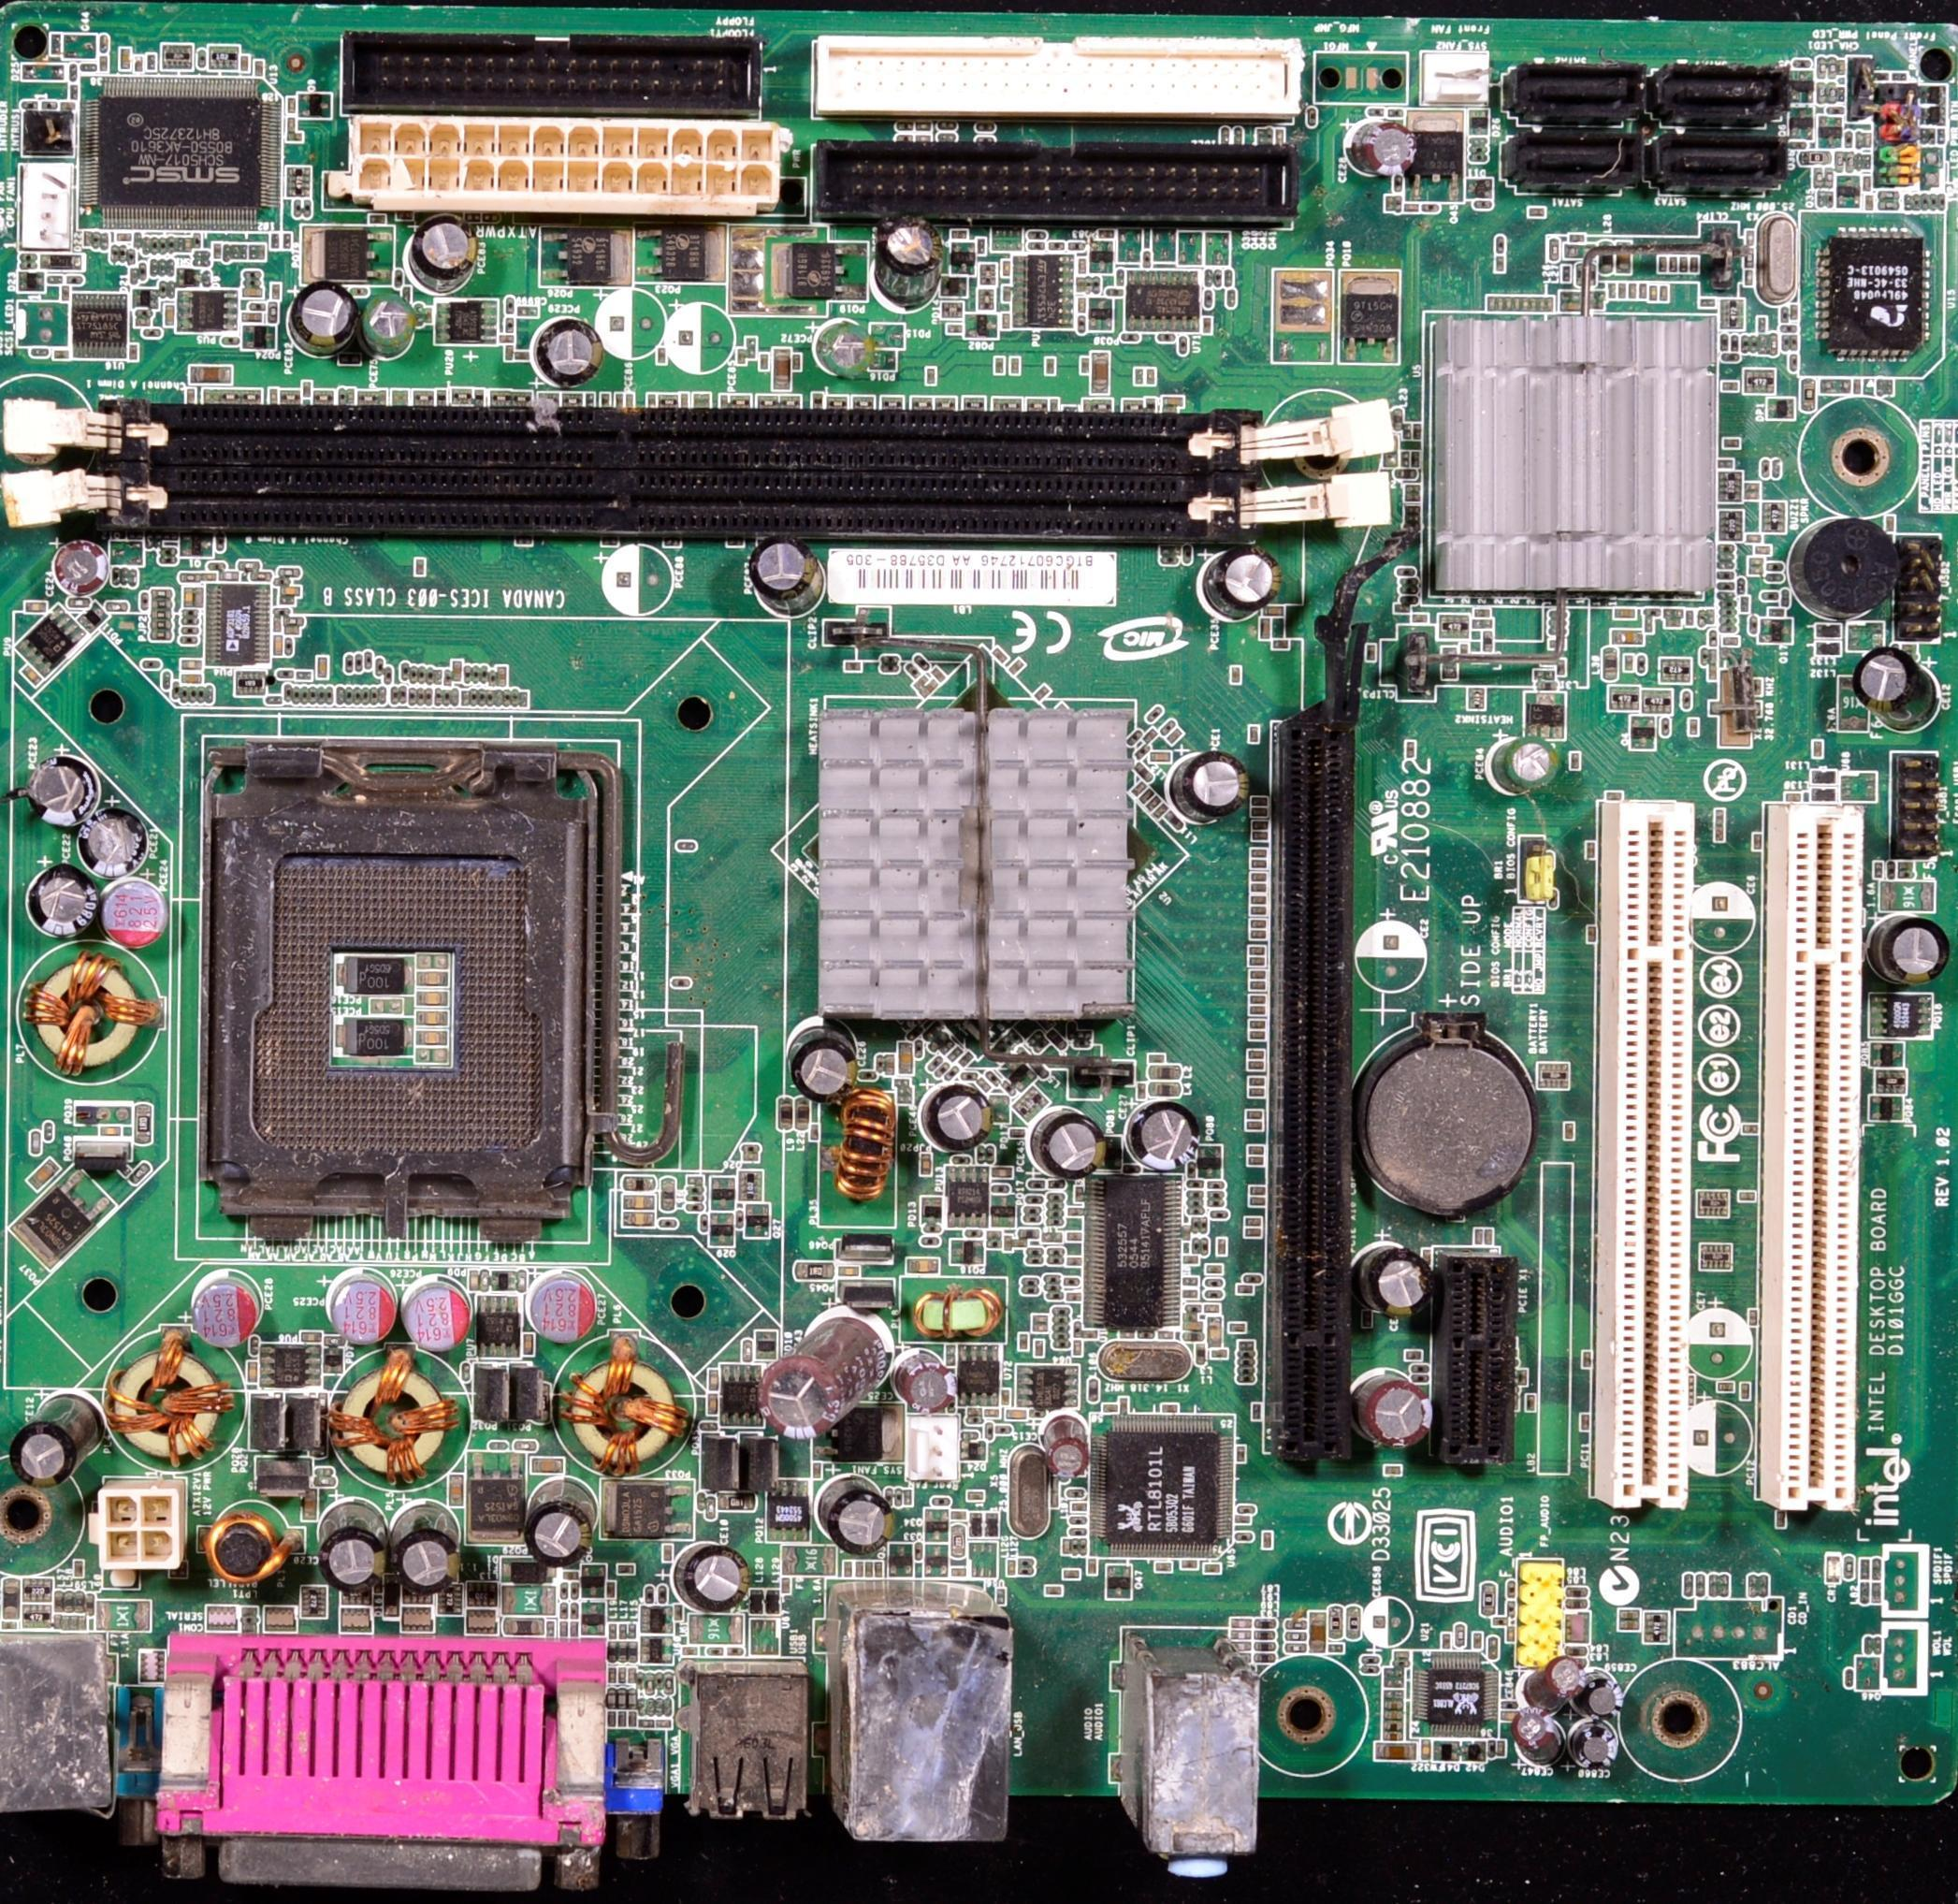Capacitor: (1861, 647, 1935, 728), (1354, 119, 1419, 175), (1372, 1740, 1418, 1761), (774, 349, 791, 389), (623, 1194, 657, 1213), (26, 1161, 53, 1185), (906, 1257, 941, 1274), (623, 1213, 654, 1230), (1207, 1317, 1224, 1347), (447, 1473, 464, 1506), (1610, 629, 1645, 645), (1617, 239, 1632, 274), (417, 969, 450, 985), (415, 1031, 448, 1047), (531, 1457, 562, 1472), (419, 992, 447, 1008), (899, 1043, 913, 1075), (417, 1012, 448, 1026), (22, 666, 41, 686), (920, 1151, 932, 1175), (299, 1331, 321, 1344), (1617, 1620, 1640, 1631), (317, 658, 328, 679), (469, 1268, 479, 1294), (247, 1361, 259, 1384), (497, 665, 508, 686), (180, 674, 204, 683), (1230, 1617, 1253, 1627), (1385, 1699, 1407, 1710), (121, 48, 132, 70), (24, 602, 47, 612), (524, 1333, 535, 1356), (1385, 1711, 1406, 1722), (1497, 1738, 1507, 1759), (1421, 1739, 1432, 1760), (1144, 369, 1158, 385), (273, 634, 283, 655), (1483, 1228, 1495, 1245), (836, 1267, 861, 1277), (1006, 1409, 1029, 1417), (1043, 359, 1055, 375), (569, 1620, 579, 1638), (1230, 1641, 1250, 1651), (1384, 1731, 1402, 1742), (1527, 207, 1545, 216), (65, 275, 83, 285), (1559, 301, 1579, 311), (240, 312, 261, 323), (1011, 357, 1021, 376), (1722, 437, 1741, 448), (1616, 1610, 1638, 1620), (287, 116, 297, 133), (1863, 132, 1872, 149), (1229, 1631, 1251, 1639), (616, 1667, 628, 1686), (1691, 255, 1701, 272), (241, 287, 262, 296), (944, 325, 964, 334), (1081, 356, 1091, 374), (927, 367, 936, 385), (1719, 382, 1738, 392), (1614, 608, 1635, 618), (183, 659, 201, 670), (453, 661, 462, 682), (1690, 718, 1697, 737), (1474, 1228, 1483, 1247), (1184, 1322, 1203, 1330), (1854, 131, 1864, 150), (545, 1620, 555, 1638), (1442, 1633, 1451, 1651), (1502, 1712, 1520, 1720), (1648, 283, 1658, 302), (791, 354, 801, 372), (99, 34, 109, 52), (1744, 483, 1762, 491), (1754, 545, 1773, 555), (286, 96, 297, 112), (59, 101, 76, 111), (1403, 203, 1419, 213), (1657, 255, 1667, 271), (1545, 297, 1554, 312), (1003, 313, 1013, 328), (1746, 532, 1762, 543), (133, 55, 143, 72), (254, 60, 264, 76), (279, 587, 301, 595), (628, 1666, 637, 1683), (1746, 231, 1755, 248), (1679, 255, 1689, 272), (1002, 261, 1011, 278), (1627, 283, 1637, 300), (1134, 369, 1144, 386), (1744, 491, 1761, 500), (184, 589, 193, 607), (283, 626, 300, 634), (117, 233, 132, 242), (1716, 562, 1735, 571), (985, 1407, 999, 1417), (608, 1668, 616, 1684), (1521, 296, 1530, 312), (995, 358, 1004, 374), (1719, 553, 1733, 561), (559, 1621, 567, 1640), (1717, 592, 1736, 600), (184, 238, 192, 252), (1669, 255, 1677, 272), (1002, 286, 1011, 301), (1487, 296, 1497, 310), (1538, 298, 1546, 312), (1513, 297, 1521, 312), (1746, 559, 1763, 564), (1749, 566, 1764, 574), (199, 573, 216, 581), (1838, 60, 1846, 77), (214, 242, 222, 258), (1496, 255, 1504, 271), (1506, 296, 1514, 311), (1708, 664, 1716, 680), (1507, 1625, 1515, 1638), (1746, 270, 1754, 283), (1531, 295, 1537, 312), (242, 55, 249, 72), (85, 232, 92, 246), (1498, 297, 1504, 311)
Connector: (6, 387, 1399, 481), (158, 1625, 617, 1889), (19, 471, 1388, 540), (1776, 802, 1865, 1503), (1606, 796, 1685, 1512), (818, 32, 1302, 125), (818, 138, 1303, 226), (341, 114, 778, 211), (341, 32, 764, 124), (844, 1625, 993, 1868), (1126, 1617, 1250, 1903), (679, 1643, 812, 1852), (1435, 1257, 1501, 1446), (1517, 1559, 1560, 1662), (22, 164, 72, 253)
IC: (80, 74, 281, 232), (1090, 1413, 1231, 1552), (1816, 225, 1932, 365), (1086, 1174, 1182, 1329), (1412, 1649, 1501, 1740), (205, 583, 270, 665), (1126, 270, 1200, 335), (14, 608, 83, 675), (1015, 254, 1072, 330), (72, 290, 128, 362), (178, 287, 240, 335), (475, 1293, 522, 1357), (435, 299, 498, 346), (945, 1166, 987, 1228), (1013, 1365, 1079, 1407), (959, 1345, 1001, 1403), (641, 1635, 673, 1664), (640, 1606, 668, 1631)
Resistor: (297, 93, 332, 119), (133, 1102, 153, 1145), (489, 1269, 519, 1290), (1345, 1606, 1362, 1639), (1327, 1607, 1346, 1637), (1798, 150, 1829, 168), (1481, 1583, 1496, 1617), (1800, 379, 1816, 411), (127, 1162, 151, 1183), (28, 1129, 42, 1155), (663, 1672, 674, 1695), (1548, 237, 1560, 260), (479, 1269, 491, 1292), (1845, 153, 1856, 174), (106, 602, 127, 613), (1816, 56, 1826, 81), (1817, 81, 1826, 107), (517, 1269, 528, 1294), (1833, 150, 1845, 172), (1454, 1624, 1467, 1645), (1822, 167, 1835, 188), (1744, 249, 1755, 269), (191, 588, 203, 608), (152, 630, 173, 641), (312, 1477, 335, 1489), (1878, 200, 1900, 212), (280, 567, 302, 576), (1421, 203, 1440, 214), (1878, 189, 1898, 199), (68, 599, 90, 608), (151, 599, 171, 608), (40, 100, 58, 111), (647, 1674, 655, 1698), (1828, 56, 1837, 80), (1717, 544, 1736, 554), (180, 574, 199, 584), (68, 64, 79, 82), (1285, 1633, 1307, 1642), (1284, 1644, 1307, 1652), (267, 300, 277, 323), (1770, 331, 1778, 353), (251, 572, 273, 581), (22, 99, 39, 110), (1814, 167, 1823, 187), (238, 560, 259, 570), (151, 610, 172, 619), (151, 620, 171, 630), (1722, 637, 1739, 647), (1936, 129, 1947, 143), (1286, 1621, 1306, 1630), (219, 572, 239, 581), (303, 200, 312, 217), (315, 1468, 332, 1477), (1496, 234, 1505, 253), (20, 254, 37, 263), (19, 262, 37, 271), (272, 283, 281, 300), (1768, 573, 1785, 582), (80, 63, 98, 72), (151, 589, 172, 597), (1828, 80, 1836, 102), (294, 199, 303, 215), (69, 85, 80, 102), (1718, 573, 1735, 580), (283, 618, 303, 625), (99, 54, 107, 73), (1738, 576, 1745, 595), (1717, 585, 1733, 591)
Transistor: (18, 1170, 112, 1269), (767, 240, 871, 302), (466, 1451, 529, 1545), (539, 226, 635, 288), (300, 225, 394, 286), (1339, 271, 1400, 366), (602, 1479, 694, 1543), (635, 222, 728, 283), (1408, 109, 1465, 204), (1523, 691, 1566, 740), (1106, 1562, 1134, 1599), (241, 325, 278, 352), (964, 312, 998, 340), (1835, 174, 1861, 212), (952, 240, 977, 278), (1789, 108, 1816, 140), (1761, 618, 1793, 643), (924, 1543, 950, 1577), (1631, 716, 1656, 750), (888, 1541, 912, 1574), (1088, 297, 1112, 331), (1818, 115, 1841, 151), (924, 1508, 949, 1541), (182, 531, 213, 557), (1790, 68, 1813, 101), (1092, 242, 1114, 275), (81, 603, 107, 632), (1767, 398, 1793, 419), (1920, 84, 1947, 106), (940, 276, 968, 297), (131, 288, 159, 310), (1921, 109, 1946, 126)
